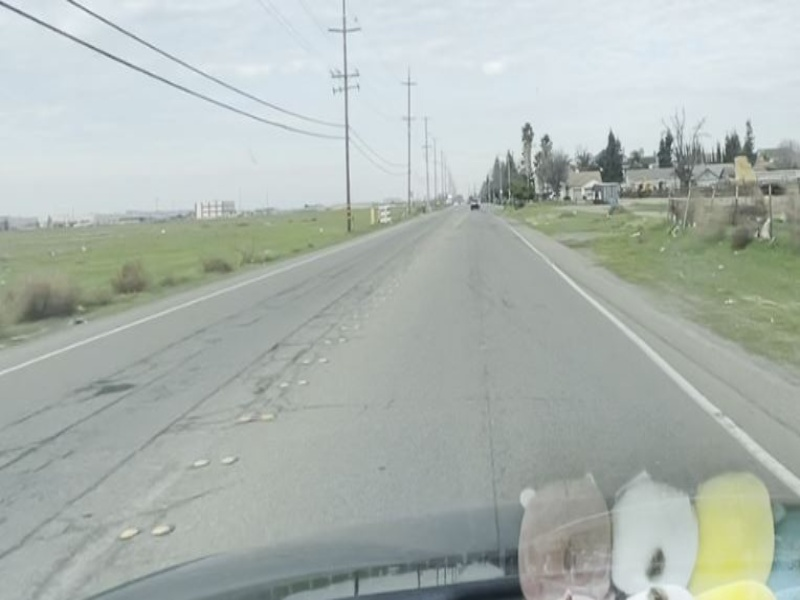pothole: (86, 380, 142, 397)
